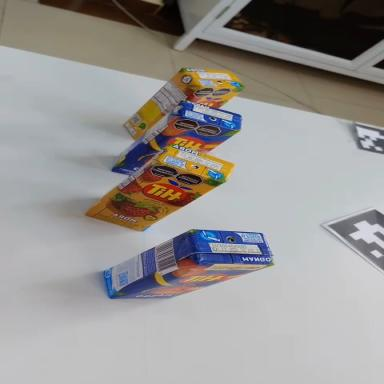HIT-MANGO: (97, 208, 275, 320), (103, 78, 247, 203)
HIT-MORA: (77, 122, 239, 251), (112, 50, 247, 142)
cara_F: (78, 136, 225, 253), (110, 95, 239, 206), (108, 242, 273, 317), (189, 87, 244, 110)
